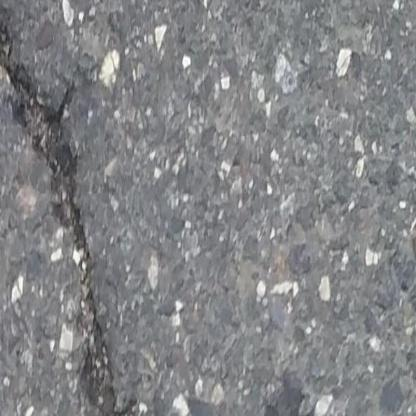Cracks: (0, 8, 150, 416)
